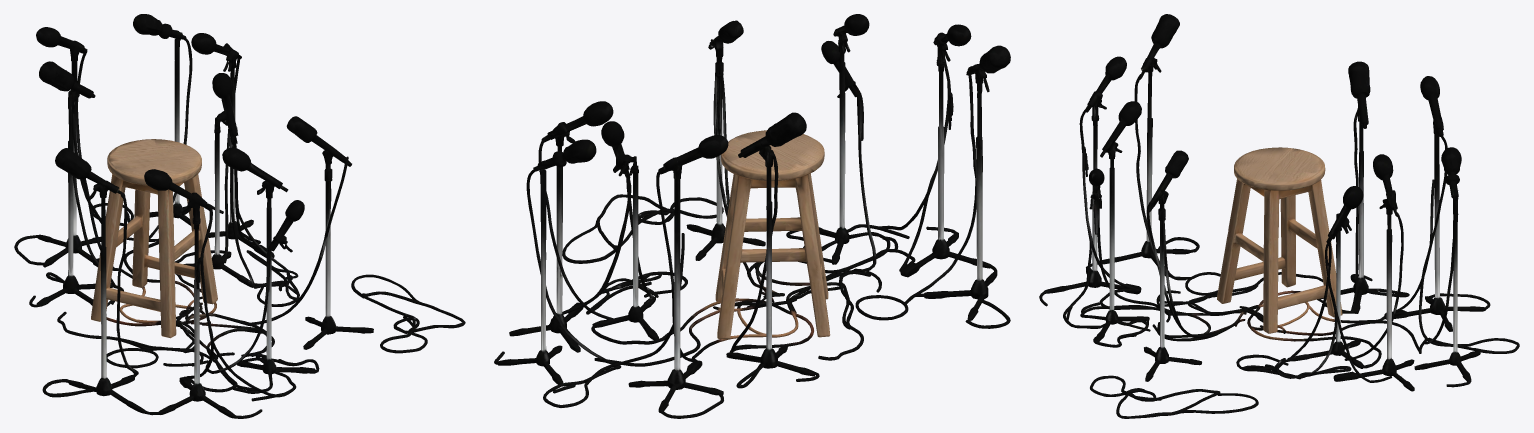
File: mic_circle_lo.glb
The picture shows the model from 3 angles, left to right: view 1: azimuth 30°, elevation 25°; view 2: azimuth 150°, elevation 25°; view 3: azimuth 270°, elevation 25°; orthographic projection. The views are drawn at different scales.
Parts seen in each view (by area): view 1: tripo_node_0614b13a-c5c3-466d-9c4a-afa2eefdf3f0; view 2: tripo_node_0614b13a-c5c3-466d-9c4a-afa2eefdf3f0; view 3: tripo_node_0614b13a-c5c3-466d-9c4a-afa2eefdf3f0.
Boxes of the visible parts, box(x1,y1,x2,y2) form: tripo_node_0614b13a-c5c3-466d-9c4a-afa2eefdf3f0: box(14, 14, 465, 418); tripo_node_0614b13a-c5c3-466d-9c4a-afa2eefdf3f0: box(494, 14, 1010, 418); tripo_node_0614b13a-c5c3-466d-9c4a-afa2eefdf3f0: box(1039, 14, 1519, 418).
Size of the model in its own units: 1.23 by 0.7498 by 1.4.
Materials: 1 (1 with a texture image).
